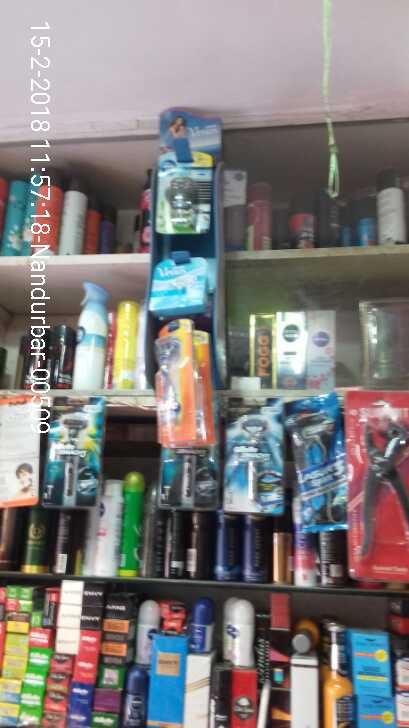beauty: (48, 388, 102, 510), (293, 406, 343, 525), (152, 319, 189, 453), (232, 415, 274, 510), (146, 248, 208, 312)
home: (149, 146, 209, 235), (73, 276, 107, 383)
